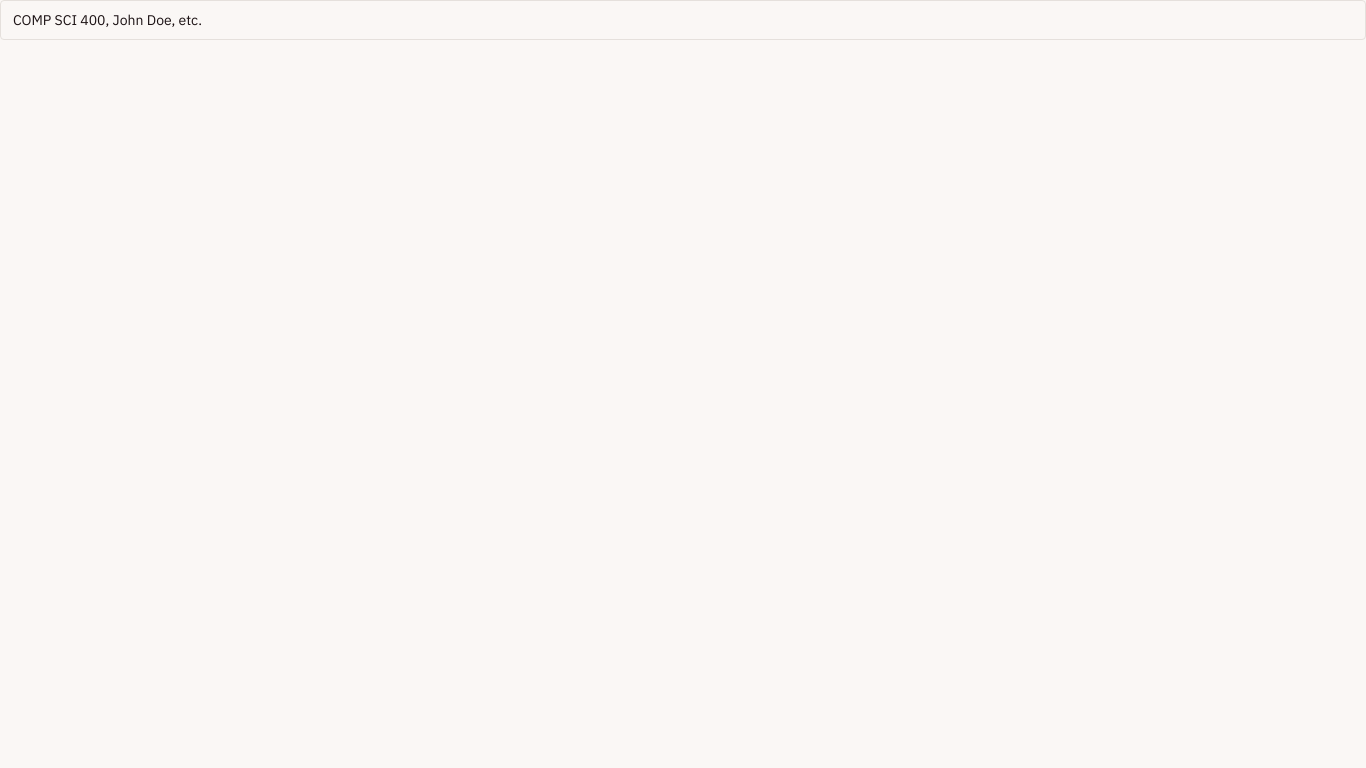
Test: SearchAutocomplete › shows suggestions after typing
Type "comp" into the dropdown.
click(683, 20); type("comp")  # box [0, 0, 1365, 40]
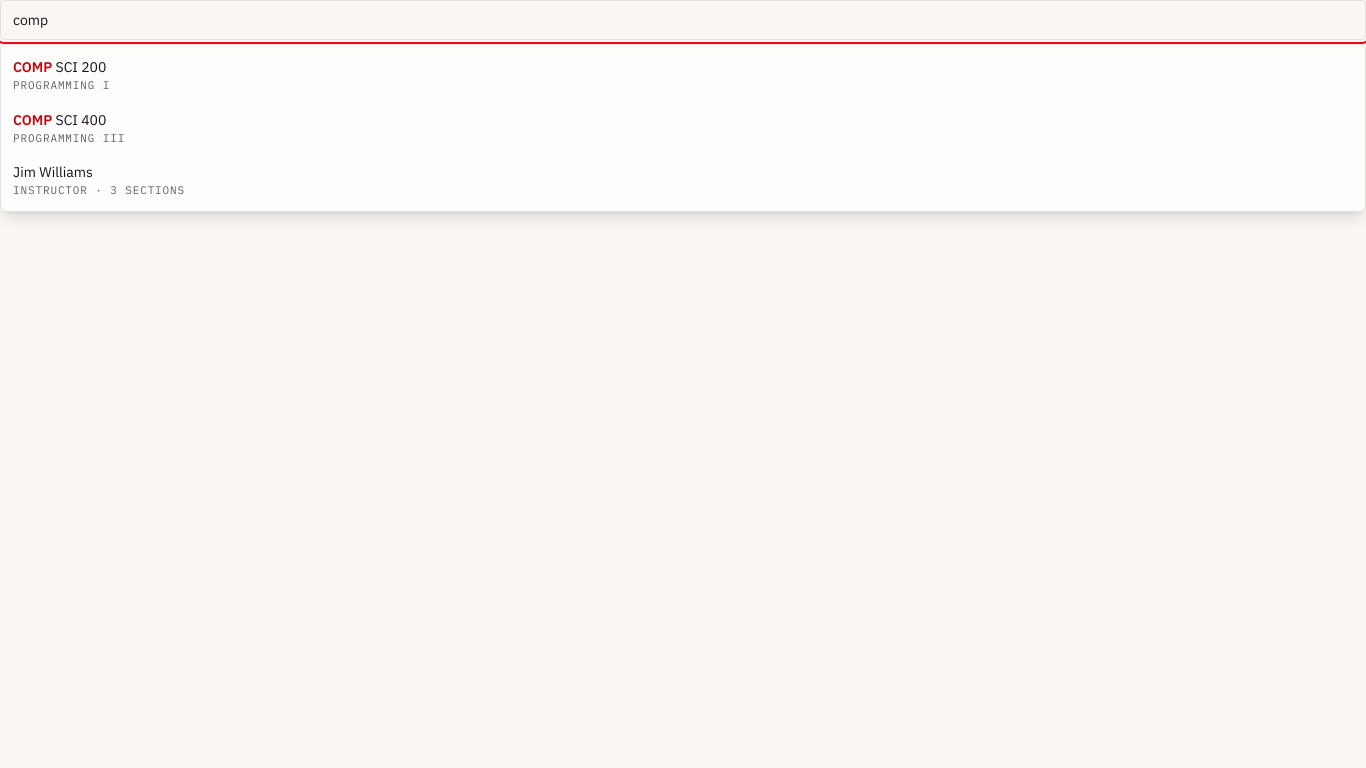
Expected: the option "COMP SCI 200 Programming I" is shown, [13, 58, 110, 92]
Expected: the text "Jim Williams" is shown, [13, 163, 93, 181]
